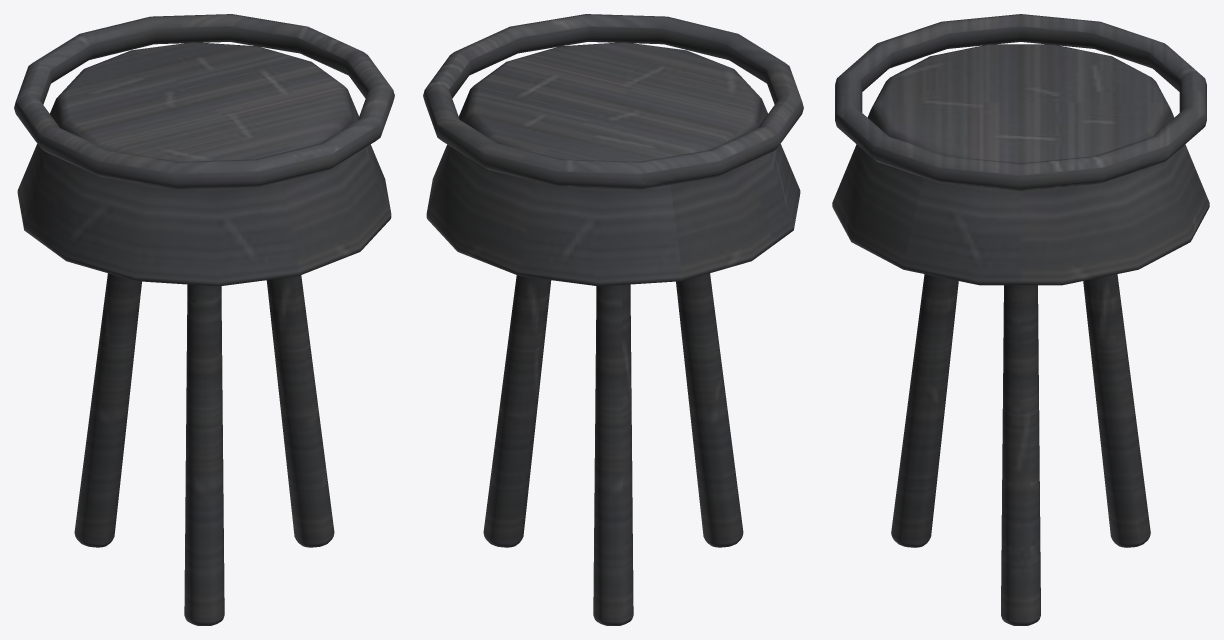
The model's file is p_brazier.glb.
The picture shows the model from 3 angles, left to right: view 1: azimuth 30°, elevation 25°; view 2: azimuth 150°, elevation 25°; view 3: azimuth 270°, elevation 25°; orthographic projection.
Visible parts, largest first — view 1: brazier; view 2: brazier; view 3: brazier.
Part boxes in pixels (x1,y1,x2,y2): brazier: [14, 14, 394, 625]; brazier: [423, 14, 803, 625]; brazier: [832, 14, 1209, 625].
Size of the model in its own units: 0.5181 by 0.719 by 0.5129.
Materials: 1 (1 with a texture image).
